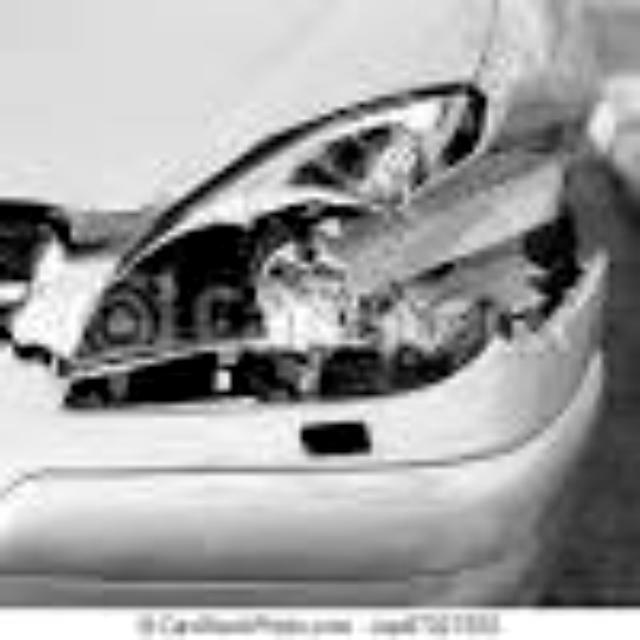Headlight-damage: (1, 78, 634, 423)
